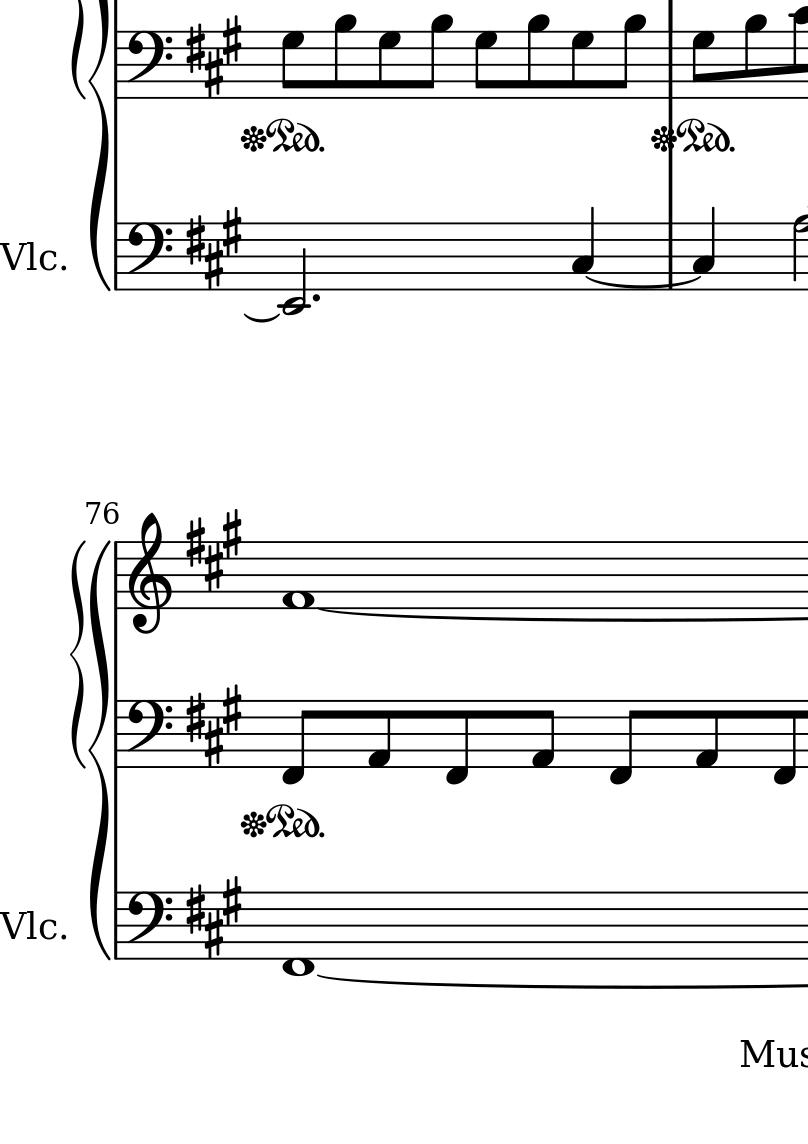1_-1: (281, 888, 315, 981)
1_1: (281, 538, 316, 615)
2_-2: (279, 219, 309, 318)
4_3: (571, 205, 596, 293), (692, 205, 717, 292)
6: (102, 498, 121, 526)
7: (85, 498, 101, 527)
8_-1: (605, 698, 644, 787), (279, 698, 315, 787), (442, 698, 472, 788), (770, 698, 797, 788)
8_1: (692, 699, 721, 770), (365, 699, 393, 770), (529, 699, 557, 770)
8_10: (791, 7, 808, 101)
8_7: (280, 30, 306, 100), (473, 30, 499, 100), (570, 30, 596, 100), (690, 30, 716, 100), (377, 30, 402, 100)
8_9: (420, 14, 456, 101), (612, 14, 648, 101), (744, 13, 769, 102), (527, 13, 552, 100), (333, 14, 358, 100)
A_S: (185, 206, 247, 293), (185, 508, 246, 595), (184, 877, 247, 961), (186, 684, 244, 768), (186, 14, 243, 98)
Brace: (87, 540, 111, 963), (67, 539, 88, 772)
Fclef: (125, 697, 175, 769), (125, 889, 174, 962), (126, 29, 174, 100), (126, 221, 174, 292)
Gclef: (127, 508, 175, 637)
Single_barline: (662, 223, 681, 290), (661, 32, 680, 98), (110, 893, 126, 960), (110, 541, 125, 611), (110, 223, 125, 291), (111, 700, 126, 768), (111, 32, 126, 99)
Slur: (585, 274, 703, 290), (242, 311, 283, 322)
Vla: (1, 905, 58, 948)
Vlc: (1, 236, 59, 279)
dot: (310, 289, 323, 307)
